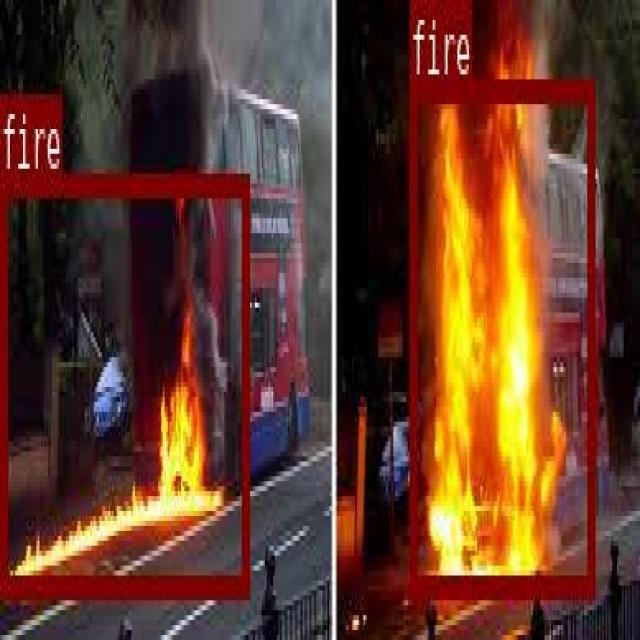fire: (0, 168, 248, 590), (409, 78, 593, 591)
